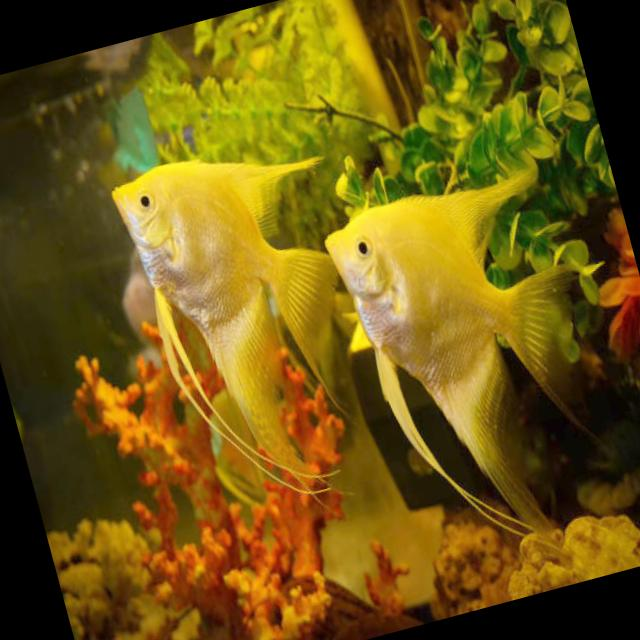AngelFish: (315, 163, 640, 580), (104, 118, 406, 530)
